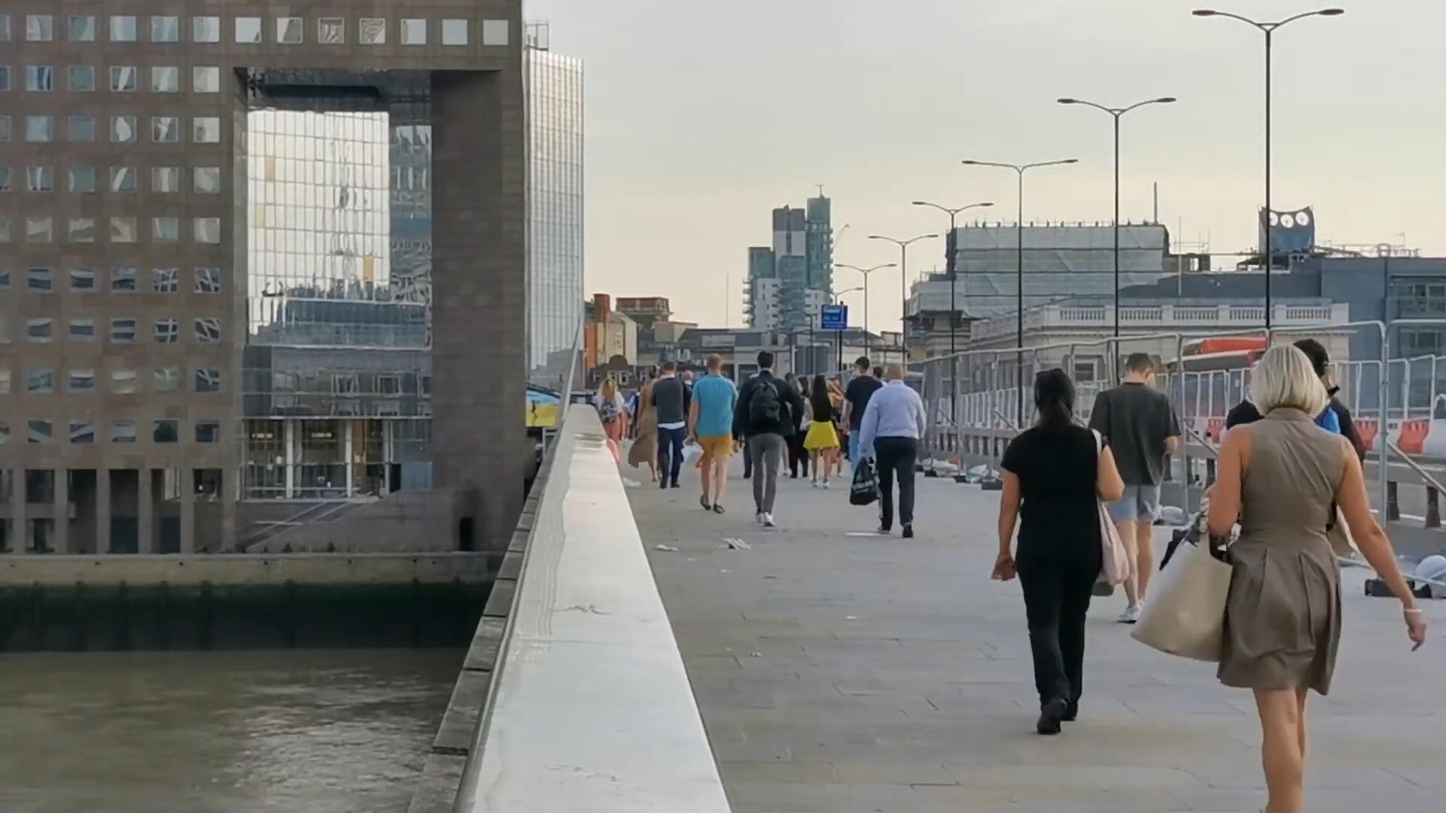no-helmet: (1251, 344, 1329, 423), (1034, 368, 1074, 450), (1123, 353, 1155, 387), (811, 374, 828, 399), (706, 353, 723, 375), (886, 363, 905, 382), (757, 351, 774, 370), (663, 361, 676, 376)
